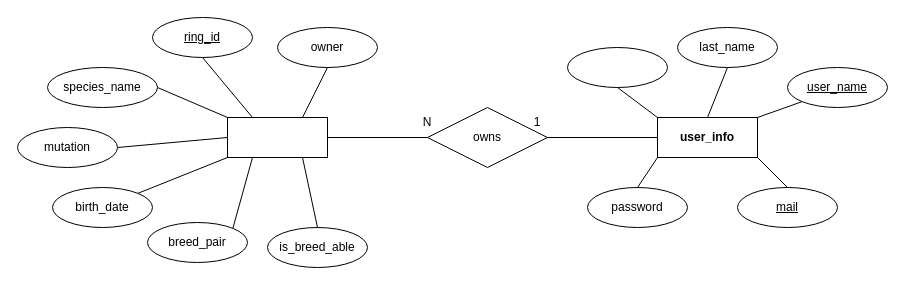
Image size: 905x285. Some labels were removed from this diagram. The centre of each missing label's shape, as x and y in pixels:
bird: the point at 277,137
first_name: the point at 617,67
